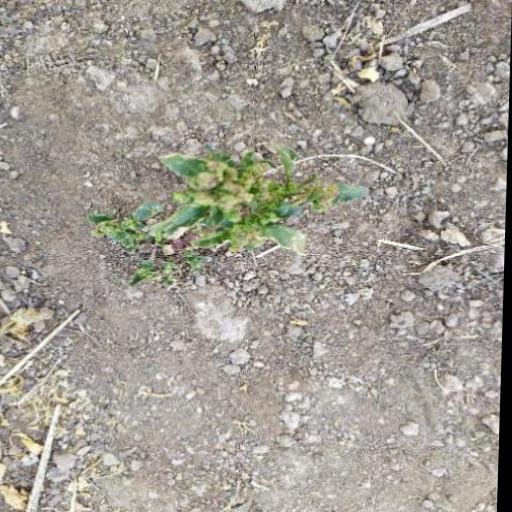weed: (72, 134, 369, 320)
